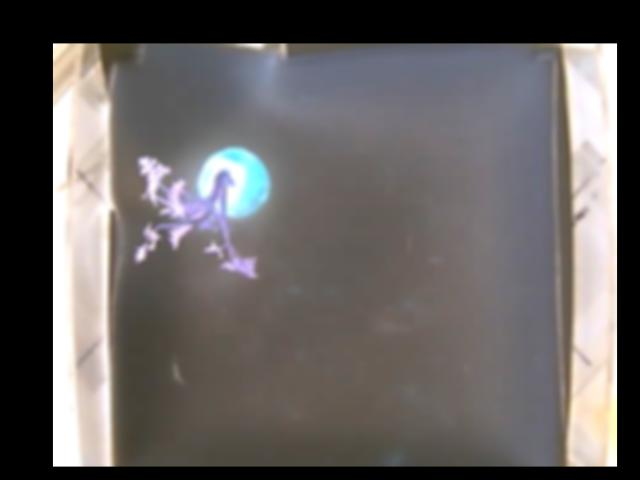Carrot: (132, 148, 272, 279)
